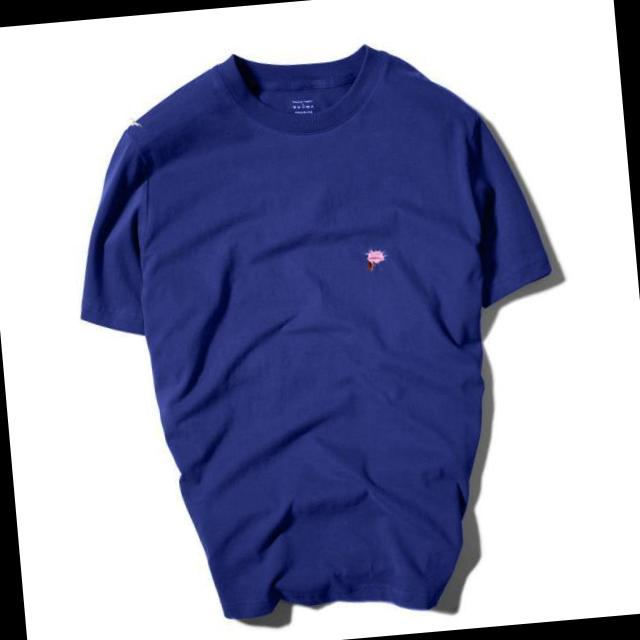stain: (358, 242, 394, 274)
